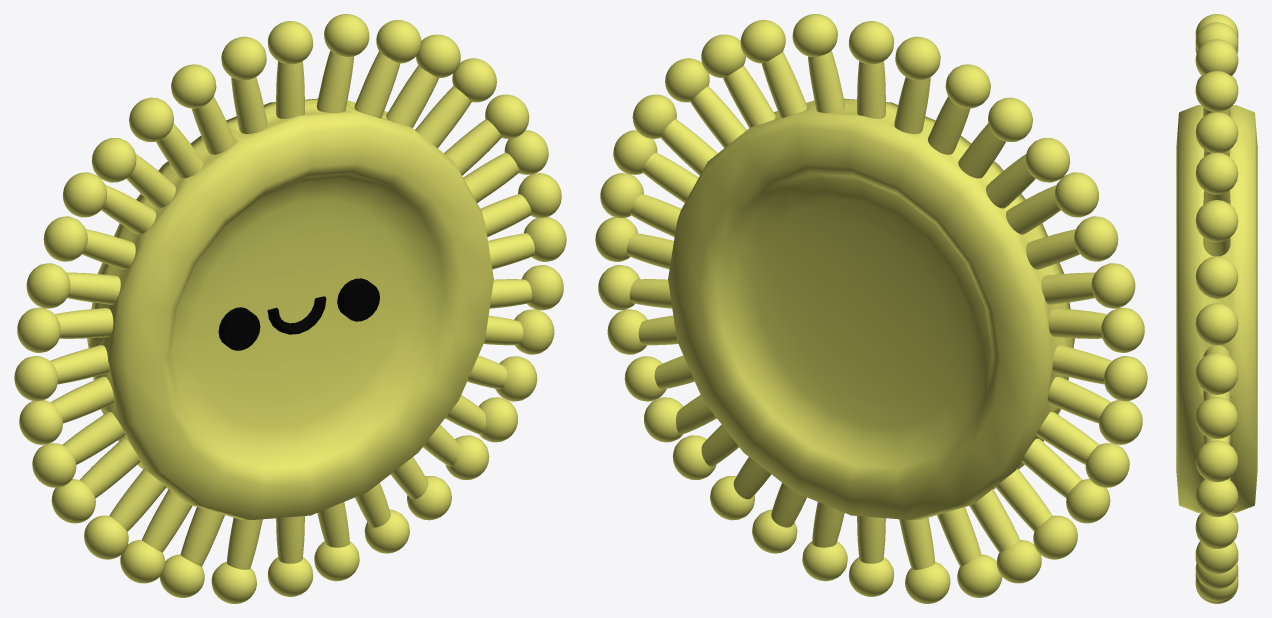
File: YELLOW2.fbx
The picture shows the model from 3 angles, left to right: view 1: azimuth 30°, elevation 25°; view 2: azimuth 150°, elevation 25°; view 3: azimuth 270°, elevation 25°; orthographic projection. The views are drawn at different scales.
Parts seen in each view (by area): view 1: pCylinder89; view 2: pCylinder89; view 3: pCylinder89.
Boxes of the visible parts, x1,y1,x2,y2 form: pCylinder89: (14,14,566,603); pCylinder89: (595,14,1147,603); pCylinder89: (1176,14,1257,603).
Size of the model in its own units: 9.01 by 9.02 by 1.24.
